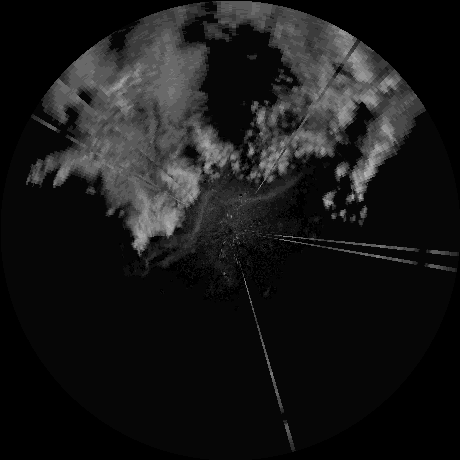frontgust: (147, 189, 214, 269), (223, 173, 308, 206)
